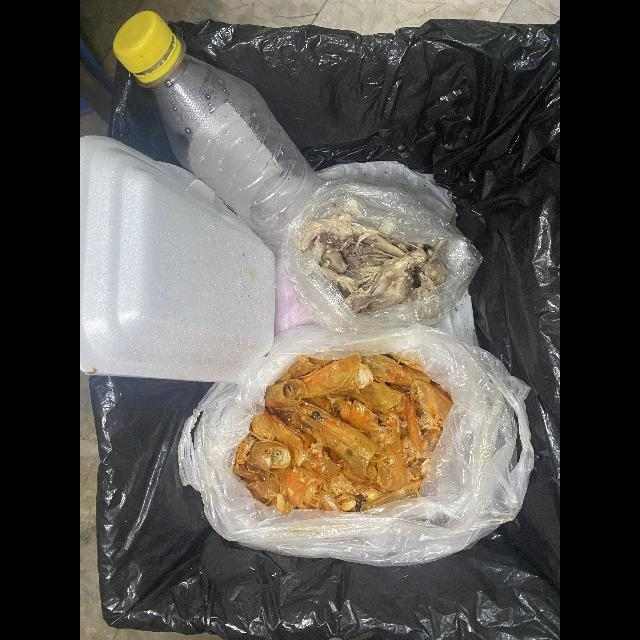biowaste: (233, 353, 454, 516), (298, 214, 448, 314)
plastic: (176, 325, 536, 568), (113, 11, 323, 251), (287, 181, 483, 329)
styrofoam: (80, 136, 276, 384)
